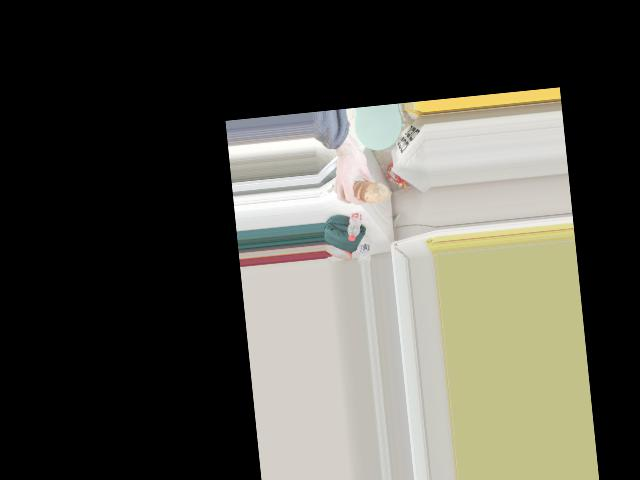sweet_potato: (348, 172, 382, 207)
